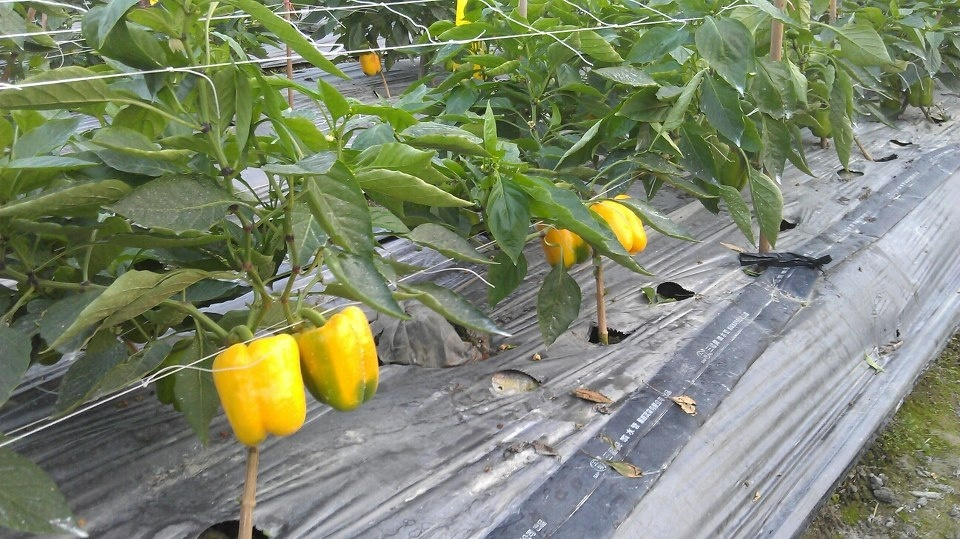fruit: (210, 333, 307, 446), (294, 307, 379, 415), (590, 192, 648, 260), (540, 225, 591, 269), (721, 145, 750, 192), (908, 74, 936, 108), (811, 107, 835, 138), (357, 51, 385, 76)
